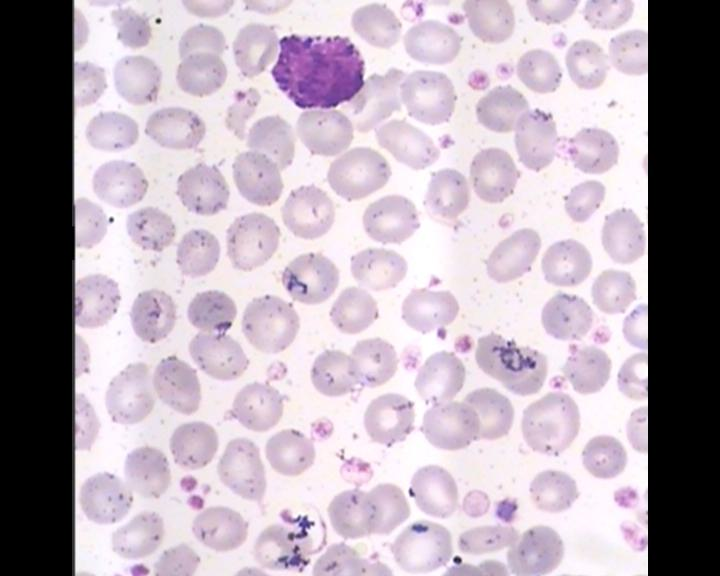baso: (267, 30, 366, 110)
